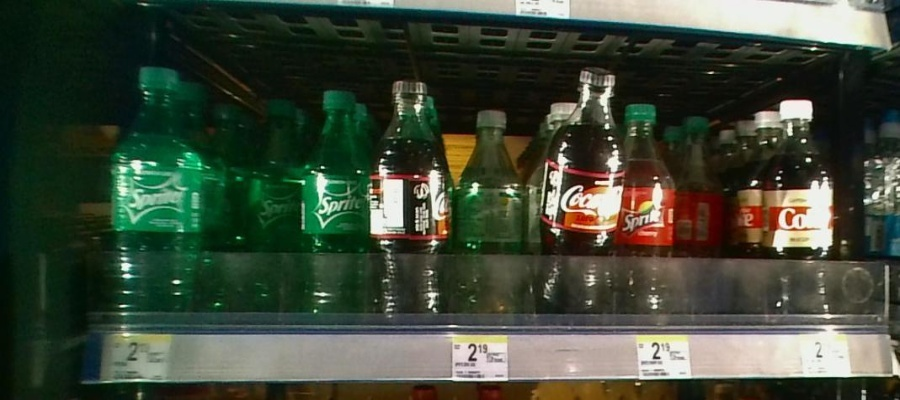bottle: (105, 55, 201, 324), (539, 67, 623, 324), (377, 71, 449, 324), (452, 96, 528, 331), (762, 95, 837, 324), (308, 86, 374, 325), (243, 100, 304, 324), (623, 98, 677, 326), (679, 104, 727, 323)
